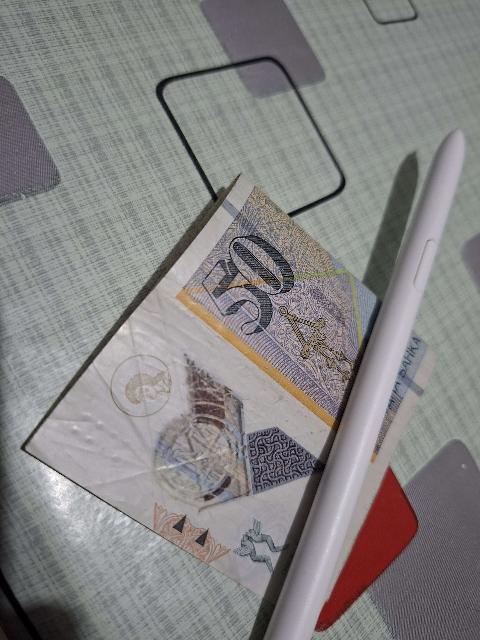50_note: (21, 176, 382, 600)
